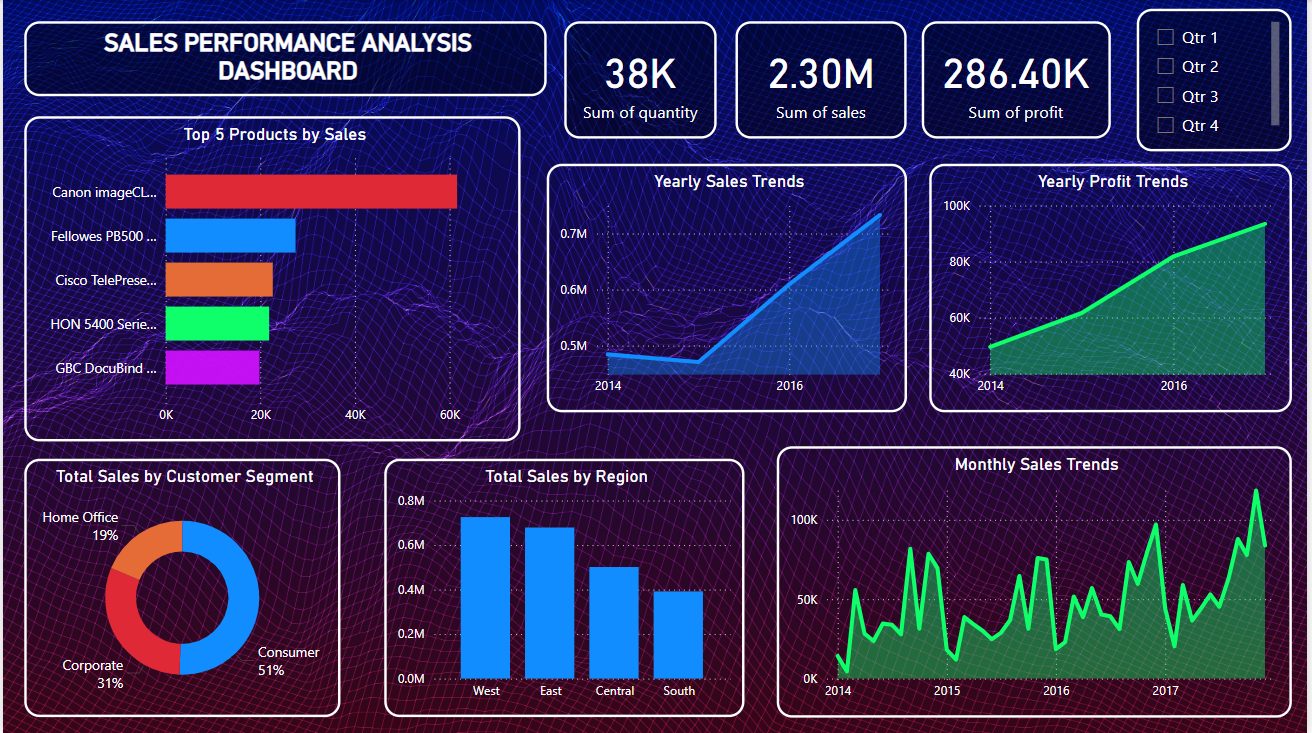

The dashboard page shown, as its layout file describes it:
{"tool":"powerbi","page":{"name":"Page 1","canvas":[1280,720],"ordinal":0},"visuals":[{"type":"textbox","title":"SALES PERFORMANCE ANALYSIS DASHBOARD","box":[20.9,20.9,512.9,73.6],"z":0},{"type":"areaChart","title":"Yearly Sales Trends","fields":{"Category":["cleaned_superstore_data.order_year"],"Y":["Sum(cleaned_superstore_data.sales)"]},"box":[533.7,160.7,353.4,244.2],"z":1000},{"type":"clusteredColumnChart","title":"Total Sales by Region","fields":{"Category":["cleaned_superstore_data.region"],"Y":["Sum(cleaned_superstore_data.sales)"]},"box":[374.2,450.3,353.4,254],"z":2000},{"type":"barChart","title":"Top 5 Products by Sales","fields":{"Category":["cleaned_superstore_data.product_name"],"Y":["Sum(cleaned_superstore_data.sales)"]},"box":[20.9,114.1,487.1,319],"z":3000},{"type":"donutChart","title":"Total Sales by Customer Segment","fields":{"Category":["cleaned_superstore_data.segment"],"Y":["Sum(cleaned_superstore_data.sales)"]},"box":[20.9,450.3,310.4,254],"z":4000},{"type":"areaChart","title":"Monthly Sales Trends","fields":{"Category":["cleaned_superstore_data.order_month.Variation.Date Hierarchy.Year","cleaned_superstore_data.order_month.Variation.Date Hierarchy.Quarter","cleaned_superstore_data.order_month.Variation.Date Hierarchy.Month","cleaned_superstore_data.order_month.Variation.Date Hierarchy.Day"],"Y":["Sum(cleaned_superstore_data.sales)"]},"box":[759.5,438,505.5,266.3],"z":5000},{"type":"areaChart","title":"Yearly Profit Trends","fields":{"Y":["Sum(cleaned_superstore_data.profit)"],"Category":["cleaned_superstore_data.order_year"]},"box":[909.2,160.7,355.8,244.2],"z":6000},{"type":"card","fields":{"Values":["Sum(cleaned_superstore_data.profit)"]},"box":[901.8,20.9,185.3,115.3],"z":7000},{"type":"card","fields":{"Values":["Sum(cleaned_superstore_data.sales)"]},"box":[719,20.9,168.1,115.3],"z":8000},{"type":"card","fields":{"Values":["Sum(cleaned_superstore_data.quantity)"]},"box":[550.9,20.9,149.7,115.3],"z":9000},{"type":"slicer","fields":{"Values":["cleaned_superstore_data.order_month.Variation.Date Hierarchy.Quarter"]},"box":[1112.9,8.6,152.1,139.9],"z":9001}]}

Visuals, with their boxes in screenshot pixels (x1, y1, x2, y2), scaled from the page's 1280x720 canvas onto the 1312x733 screenshot:
"SALES PERFORMANCE ANALYSIS DASHBOARD" textbox: [21, 21, 547, 96]
"Yearly Sales Trends" areaChart: [547, 164, 909, 412]
"Total Sales by Region" clusteredColumnChart: [384, 458, 746, 717]
"Top 5 Products by Sales" barChart: [21, 116, 521, 441]
"Total Sales by Customer Segment" donutChart: [21, 458, 340, 717]
"Monthly Sales Trends" areaChart: [778, 446, 1297, 717]
"Yearly Profit Trends" areaChart: [932, 164, 1297, 412]
card - Sum(cleaned_superstore_data.profit): [924, 21, 1114, 139]
card - Sum(cleaned_superstore_data.sales): [737, 21, 909, 139]
card - Sum(cleaned_superstore_data.quantity): [565, 21, 718, 139]
slicer - cleaned_superstore_data.order_month.Variation.Date Hierarchy.Quarter: [1141, 9, 1297, 151]
